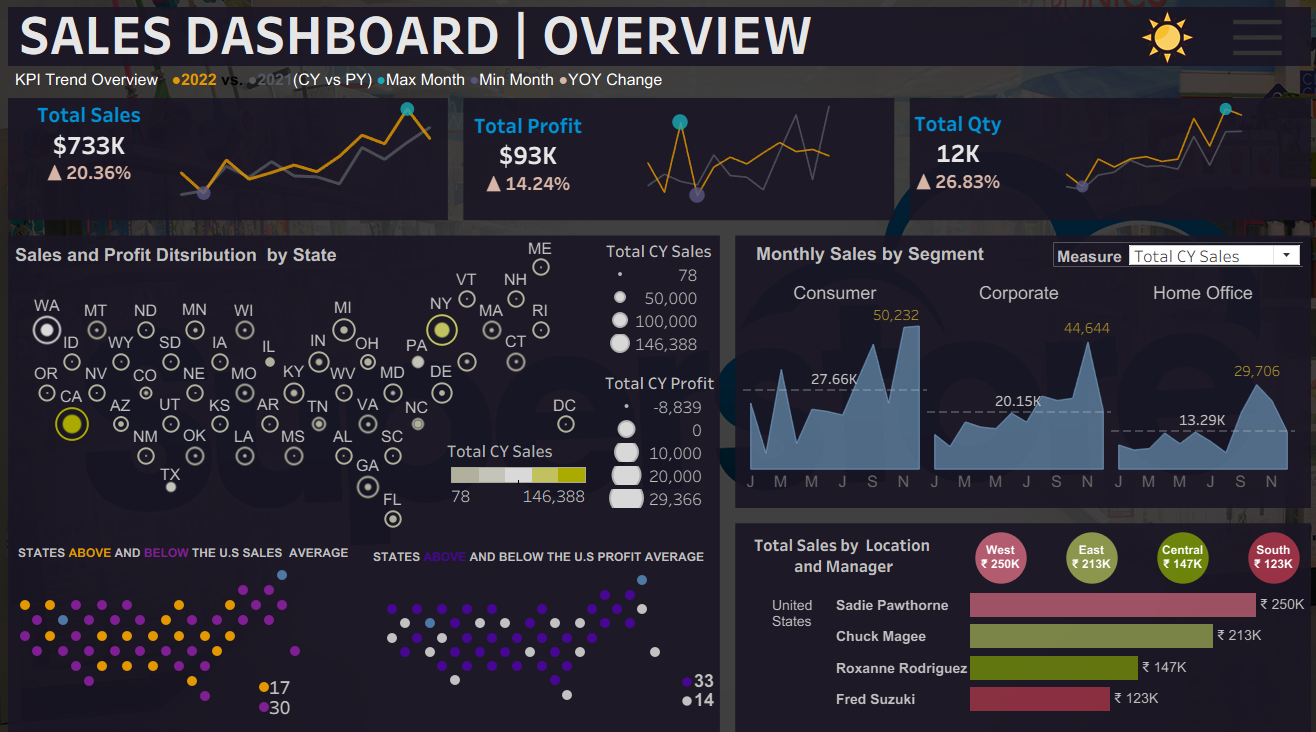

This screenshot's page, from the dashboard's own definition file:
{"tool":"tableau","page":{"name":"Sales Dashboard","canvas":[1000,1000],"units":"permille","ordinal":0},"visuals":[{"type":"image","param":"C:/Users/Disha/Desktop/project3/Sales Dashboard Background/Slide4.JPG","box":[5,10.6,990.1,960.4]},{"type":"text","box":[11.8,23.8,521.2,69.9]},{"type":"dashboard-object","box":[665.8,26.4,87.2,71.2]},{"type":"dashboard-object","box":[744.4,29,44.6,69.9]},{"type":"text","box":[37.4,79.2,62.3,39.6]},{"type":"text","box":[15,98.9,462.6,48.8]},{"type":"filter","title":"Monthly sales by segment","param":"[federated.19h770b1p4hu8f10751ue1wqhaav].[none:Category:nk]","box":[670.2,106.9,127.5,87.1]},{"type":"worksheet","title":"Quantity KPI ","mark":"Automatic","box":[559.2,143.8,83.5,150.4]},{"type":"worksheet","title":"Quantity Sparkline","mark":"Automatic","rows":["min max sales (copy)_1259319084249792535"],"cols":["Order Date"],"box":[642.8,143.8,155.2,150.4]},{"type":"worksheet","title":"Sales Sparkline","mark":"Automatic","rows":["Calculation_1259319084239695893"],"cols":["Order Date"],"box":[96.6,145.1,178.9,147.8]},{"type":"worksheet","title":"Profit KPI","mark":"Automatic","box":[289.3,145.1,89.1,151.7]},{"type":"worksheet","title":"Profit Sparkline ","mark":"Automatic","rows":["min max sales (copy)_1259319084247719958"],"cols":["Order Date"],"box":[378.4,145.1,168.4,151.7]},{"type":"worksheet","title":"Sales KPI","mark":"Automatic","box":[15,146.4,93.5,147.8]},{"type":"filter","title":"Sales and Profit by state","param":"[federated.19h770b1p4hu8f10751ue1wqhaav].[none:Ship Mode:nk]","box":[670.2,193.9,127.5,91.7]},{"type":"filter","title":"Sales and Profit by state","param":"[federated.19h770b1p4hu8f10751ue1wqhaav].[none:Region:nk]","box":[670.2,285.6,127.5,91.7]},{"type":"legend","title":"Sales and Profit by state","param":"[federated.19h770b1p4hu8f10751ue1wqhaav].[sum:Calculation_1259319084179795970:qk","box":[372.8,324.5,67.3,166.2]},{"type":"worksheet","title":"Sales and Profit by state","mark":"Circle","rows":["Row"],"cols":["Column","Column"],"box":[11.8,325.9,361.4,414.2]},{"type":"text","box":[453.6,325.9,189.4,39.6]},{"type":"parameter","param":"[Parameters].[Parameter 1]","box":[643.6,327.2,152.8,33]},{"type":"text","box":[15,328.5,250.6,39.6]},{"type":"worksheet","title":"Monthly sales by segment","mark":"Area","rows":["Calculation_895934890376704008"],"cols":["Segment","Order Date"],"box":[452.4,391.8,337.9,275.7]},{"type":"legend","title":"Sales and Profit by state","param":"[federated.19h770b1p4hu8f10751ue1wqhaav].[sum:Total CY Sales (copy)_125931908418","box":[370.9,502.6,71.7,199.2]},{"type":"legend","title":"Sales and Profit by state","param":"[federated.19h770b1p4hu8f10751ue1wqhaav].[sum:Calculation_1259319084179795970:qk","box":[282.8,601.6,87.2,96.3]},{"type":"text","box":[439.5,671.5,145.3,128]},{"type":"worksheet","title":"Region wise sales","mark":"Circle","cols":["Region"],"box":[562.5,695.2,221.5,81.8]},{"type":"text","box":[225.7,725.6,212,39.6]},{"type":"text","box":[10.6,726.9,274.9,39.6]},{"type":"worksheet","title":"Avg Sales by state","mark":"Circle","rows":["Row"],"cols":["Column"],"box":[10,753.3,187.7,199.2]},{"type":"worksheet","title":"Avg Profit by state ","mark":"Circle","rows":["Row"],"cols":["Column"],"box":[224.4,758.6,182.7,188.7]},{"type":"worksheet","title":"Total sales by location and manager","mark":"Automatic","rows":["Country/Region","Regional Manager"],"cols":["Calculation_1259319084179795970"],"box":[449.9,779.7,340.4,166.2]},{"type":"worksheet","title":"Avg sales by state count","mark":"Circle","rows":["Calculation_895934890362384386"],"box":[182,886.5,46.8,56.7]},{"type":"worksheet","title":"Avg profit by state count","mark":"Circle","rows":["sales avg color (copy)_895934890366500869"],"box":[394.6,894.5,44.9,51.5]}]}

Visuals, with their boxes on the dashboard's canvas, which has no fixed pixel size, in thousandths of its width and height (x1, y1, x2, y2). These are canvas units, not pixel positions in the 1316x732 screenshot, which may show the page scaled, cropped or inside an application window:
image: left=5, top=11, right=995, bottom=971
text: left=12, top=24, right=533, bottom=94
dashboard-object: left=666, top=26, right=753, bottom=98
dashboard-object: left=744, top=29, right=789, bottom=99
text: left=37, top=79, right=100, bottom=119
text: left=15, top=99, right=478, bottom=148
"Monthly sales by segment" filter: left=670, top=107, right=798, bottom=194
"Quantity KPI " worksheet: left=559, top=144, right=643, bottom=294
"Quantity Sparkline" worksheet: left=643, top=144, right=798, bottom=294
"Sales Sparkline" worksheet: left=97, top=145, right=276, bottom=293
"Profit KPI" worksheet: left=289, top=145, right=378, bottom=297
"Profit Sparkline " worksheet: left=378, top=145, right=547, bottom=297
"Sales KPI" worksheet: left=15, top=146, right=108, bottom=294
"Sales and Profit by state" filter: left=670, top=194, right=798, bottom=286
"Sales and Profit by state" filter: left=670, top=286, right=798, bottom=377
"Sales and Profit by state" legend: left=373, top=324, right=440, bottom=491
"Sales and Profit by state" worksheet (Circle marks): left=12, top=326, right=373, bottom=740
text: left=454, top=326, right=643, bottom=366
parameter: left=644, top=327, right=796, bottom=360
text: left=15, top=328, right=266, bottom=368
"Monthly sales by segment" worksheet (Area marks): left=452, top=392, right=790, bottom=668
"Sales and Profit by state" legend: left=371, top=503, right=443, bottom=702
"Sales and Profit by state" legend: left=283, top=602, right=370, bottom=698
text: left=440, top=672, right=585, bottom=800
"Region wise sales" worksheet (Circle marks): left=562, top=695, right=784, bottom=777
text: left=226, top=726, right=438, bottom=765
text: left=11, top=727, right=286, bottom=766
"Avg Sales by state" worksheet (Circle marks): left=10, top=753, right=198, bottom=952
"Avg Profit by state " worksheet (Circle marks): left=224, top=759, right=407, bottom=947
"Total sales by location and manager" worksheet: left=450, top=780, right=790, bottom=946
"Avg sales by state count" worksheet (Circle marks): left=182, top=886, right=229, bottom=943
"Avg profit by state count" worksheet (Circle marks): left=395, top=894, right=440, bottom=946
